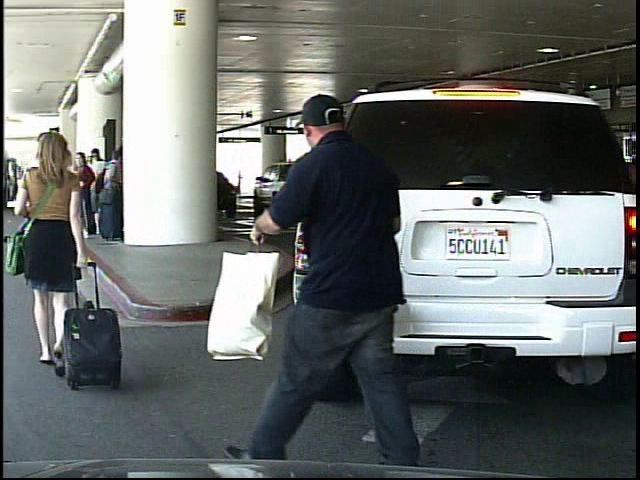person: (268, 86, 430, 467), (5, 124, 101, 400)
